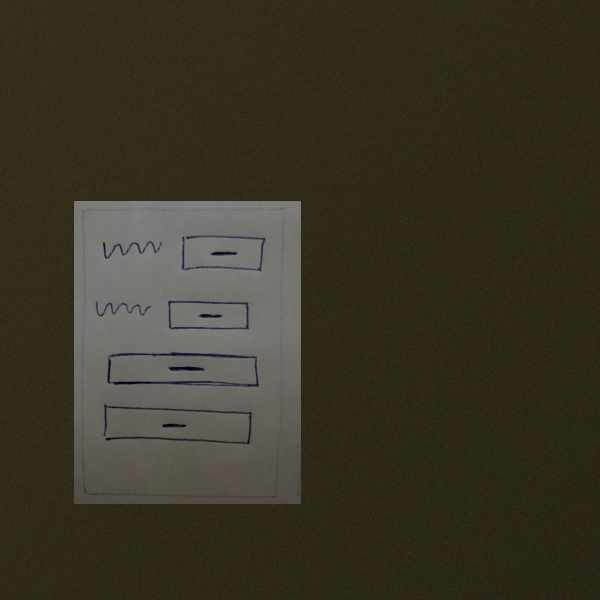button: (99, 402, 256, 448), (104, 351, 263, 395), (178, 231, 268, 278), (164, 296, 253, 338)
text: (99, 233, 166, 264), (92, 296, 155, 325)
